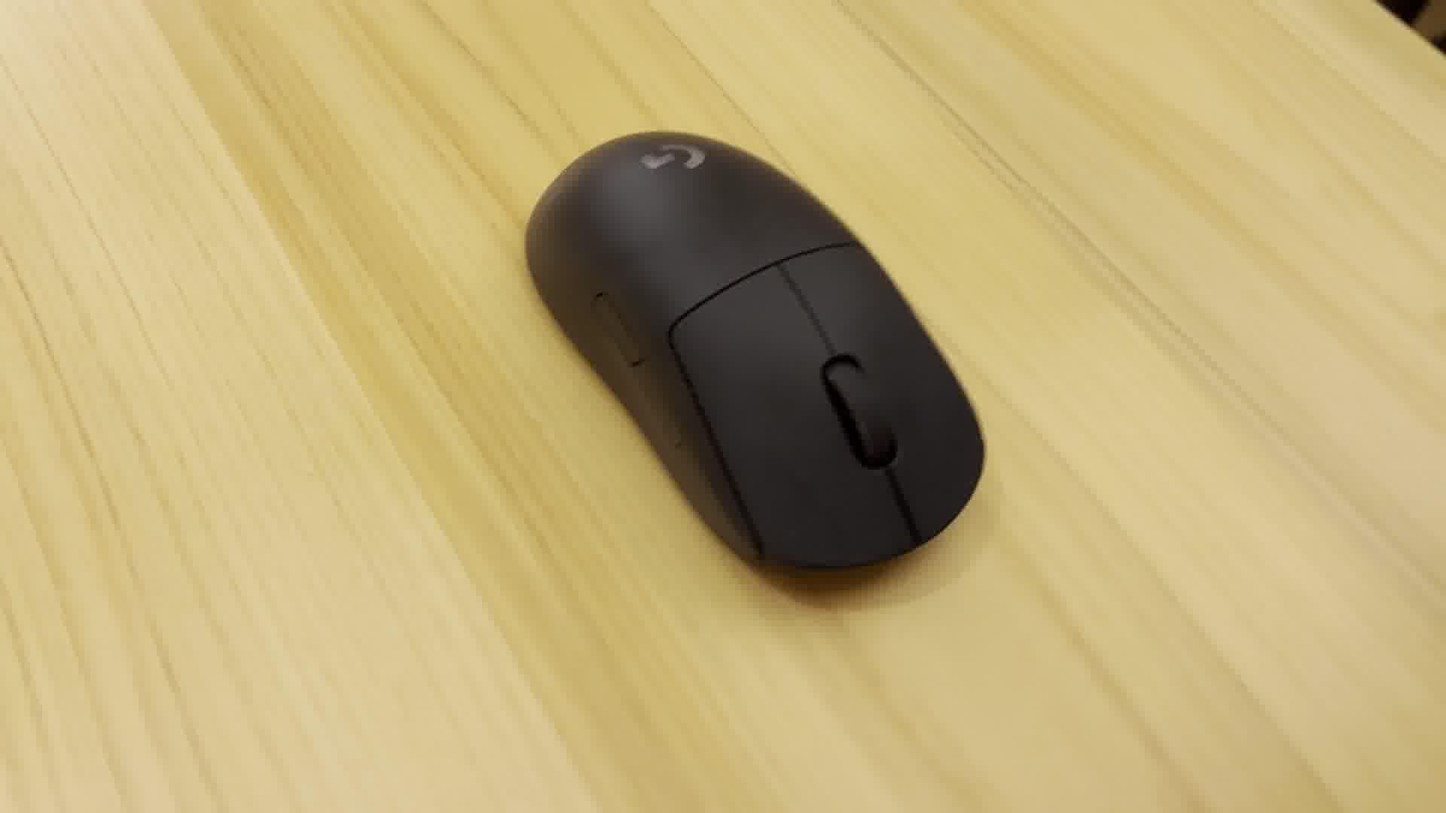mouse: (523, 120, 995, 597)
